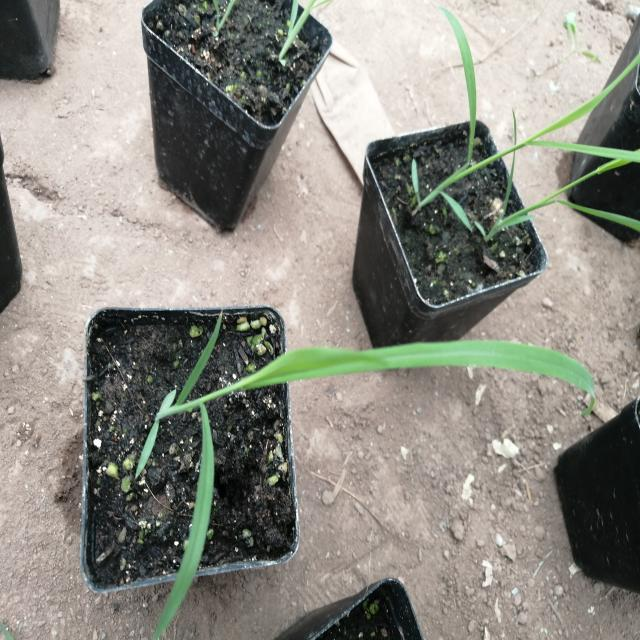crabgrass: (135, 327, 614, 550)
